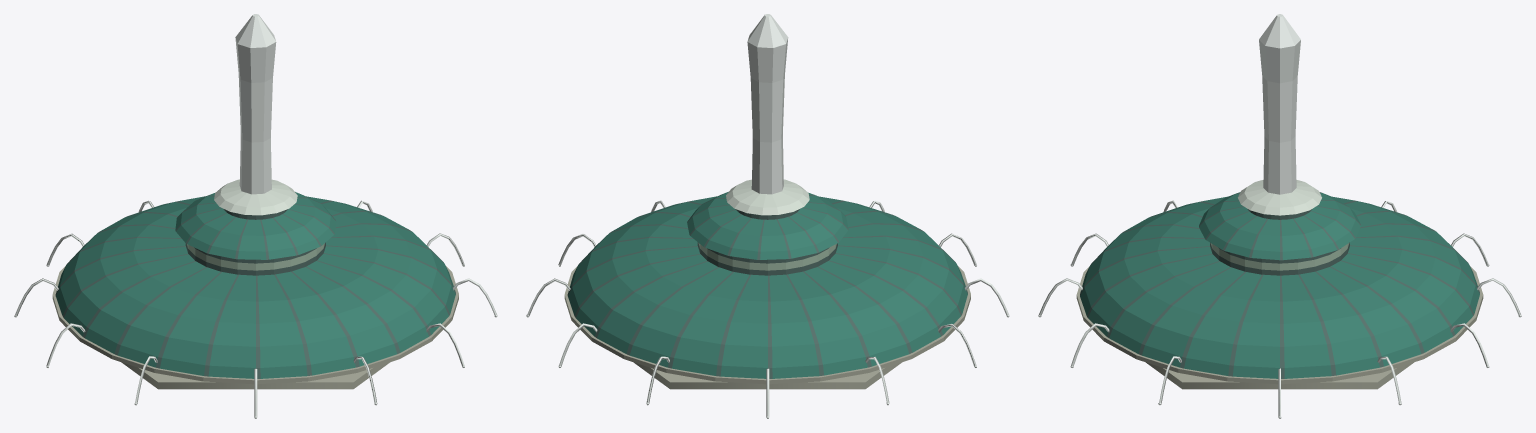
File: lake-eola-fountain-far.glb
3 views of the same model, side by side, from view 1: azimuth 30°, elevation 25°; view 2: azimuth 150°, elevation 25°; view 3: azimuth 270°, elevation 25° (orthographic).
Parts seen in each view (by area): view 1: lake-eola-fountain-0-panel, lake-eola-fountain-0-frame, lake-eola-fountain-0-water, lake-eola-fountain-0-concrete, lake-eola-fountain-0-light, lake-eola-fountain-0-glow; view 2: lake-eola-fountain-0-panel, lake-eola-fountain-0-frame, lake-eola-fountain-0-water, lake-eola-fountain-0-concrete, lake-eola-fountain-0-light, lake-eola-fountain-0-glow; view 3: lake-eola-fountain-0-panel, lake-eola-fountain-0-frame, lake-eola-fountain-0-water, lake-eola-fountain-0-concrete, lake-eola-fountain-0-light, lake-eola-fountain-0-glow.
Part boxes in pixels (<box>): lake-eola-fountain-0-panel: <box>56,192,455,378</box>; lake-eola-fountain-0-frame: <box>55,195,455,378</box>; lake-eola-fountain-0-water: <box>14,14,497,418</box>; lake-eola-fountain-0-concrete: <box>52,266,458,389</box>; lake-eola-fountain-0-light: <box>214,179,297,215</box>; lake-eola-fountain-0-glow: <box>187,243,324,270</box>; lake-eola-fountain-0-panel: <box>568,191,967,378</box>; lake-eola-fountain-0-frame: <box>567,194,967,378</box>; lake-eola-fountain-0-water: <box>526,14,1009,418</box>; lake-eola-fountain-0-concrete: <box>564,266,970,389</box>; lake-eola-fountain-0-light: <box>726,179,809,215</box>; lake-eola-fountain-0-glow: <box>698,243,836,270</box>; lake-eola-fountain-0-panel: <box>1080,192,1479,378</box>; lake-eola-fountain-0-frame: <box>1080,192,1479,378</box>; lake-eola-fountain-0-water: <box>1038,14,1521,418</box>; lake-eola-fountain-0-concrete: <box>1076,266,1483,389</box>; lake-eola-fountain-0-light: <box>1238,179,1321,215</box>; lake-eola-fountain-0-glow: <box>1210,243,1349,270</box>.
Bounding box in the file's own units: 21.73 × 15 × 21.73.
